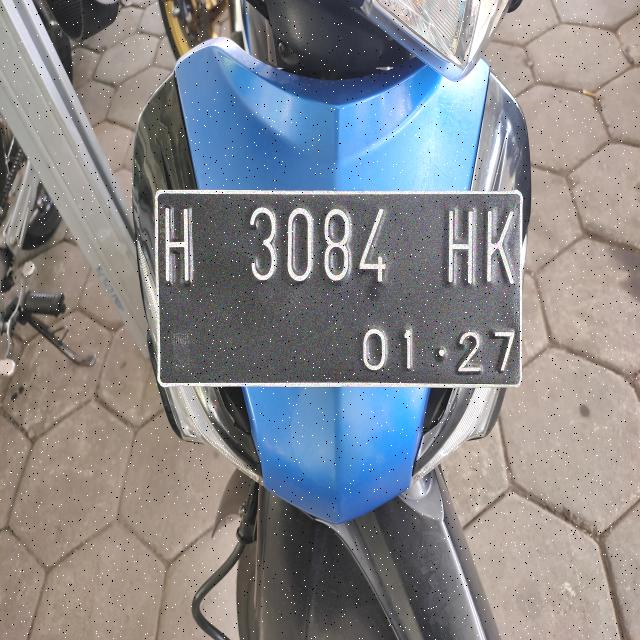plate: (156, 191, 521, 385)
